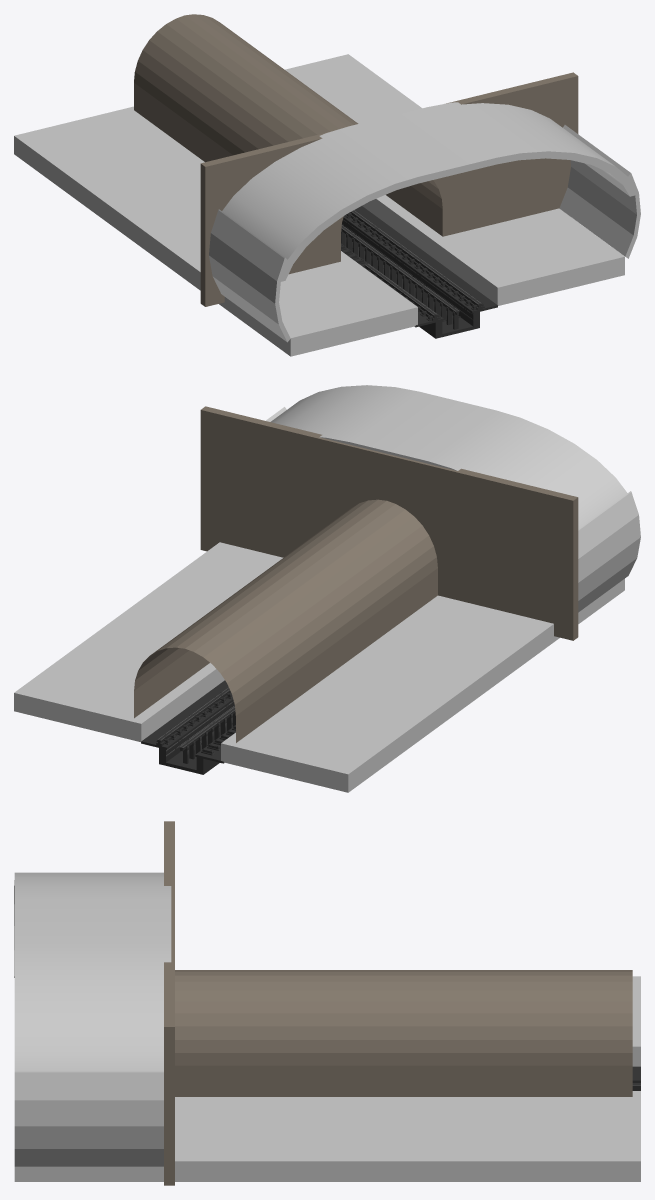
File: stage_4.fbx
The picture shows the model from 3 angles, top to bottom: view 1: azimuth 30°, elevation 25°; view 2: azimuth 150°, elevation 25°; view 3: azimuth 270°, elevation 25°; orthographic projection. The views are drawn at different scales.
Parts seen in each view (by area): view 1: Cylinder.075, Cylinder.074, Cylinder.046, Grid.084, Grid.102, Cylinder.019, Grid.129, Grid.122, Cylinder.055, Cylinder.027, Grid.128, Grid.080 (+10 smaller); view 2: Cylinder.074, Cylinder.075, Cylinder.046, Grid.129, Grid.128, Grid.122, Grid.115, Cylinder.019, Cylinder.055, Grid.121, Grid.114, Grid.125 (+4 smaller); view 3: Cylinder.075, Cylinder.019, Cylinder.027, Grid.121, Grid.128, Grid.114, Cylinder.046, Cylinder.074, Grid.084, Grid.129.
Boxes of the visible parts, left/top/right/bottom form: Cylinder.075: left=134, top=14, right=439, bottom=232; Cylinder.074: left=200, top=72, right=578, bottom=306; Cylinder.046: left=222, top=116, right=457, bottom=281; Grid.084: left=428, top=208, right=624, bottom=305; Grid.102: left=221, top=256, right=417, bottom=356; Cylinder.019: left=389, top=102, right=637, bottom=196; Grid.129: left=14, top=106, right=198, bottom=204; Grid.122: left=83, top=158, right=204, bottom=254; Cylinder.055: left=209, top=209, right=290, bottom=342; Cylinder.027: left=559, top=125, right=640, bottom=258; Grid.128: left=285, top=54, right=417, bottom=120; Grid.080: left=377, top=254, right=497, bottom=338; Cylinder.074: left=200, top=406, right=578, bottom=640; Cylinder.075: left=134, top=499, right=437, bottom=742; Cylinder.046: left=388, top=401, right=627, bottom=528; Grid.129: left=221, top=695, right=417, bottom=792; Grid.128: left=14, top=642, right=210, bottom=741; Grid.122: left=301, top=645, right=486, bottom=741; Grid.115: left=371, top=595, right=555, bottom=690; Cylinder.019: left=271, top=385, right=457, bottom=453; Cylinder.055: left=578, top=491, right=640, bottom=612; Grid.121: left=83, top=591, right=224, bottom=690; Grid.114: left=152, top=542, right=283, bottom=606; Grid.125: left=141, top=691, right=235, bottom=774; Cylinder.075: left=175, top=970, right=632, bottom=1096; Cylinder.019: left=14, top=921, right=171, bottom=1070; Cylinder.027: left=14, top=1071, right=163, bottom=1166; Grid.121: left=327, top=1097, right=484, bottom=1181; Grid.128: left=484, top=1091, right=640, bottom=1181; Grid.114: left=175, top=1097, right=327, bottom=1181; Cylinder.046: left=14, top=872, right=171, bottom=921; Cylinder.074: left=164, top=821, right=174, bottom=1185; Grid.084: left=14, top=1166, right=163, bottom=1181; Grid.129: left=632, top=976, right=640, bottom=1066.
Size of the model in its own units: 1445 by 615 by 1859.
